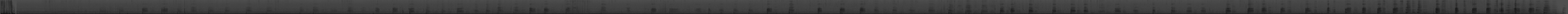Moan: (1472, 0, 1476, 14)
